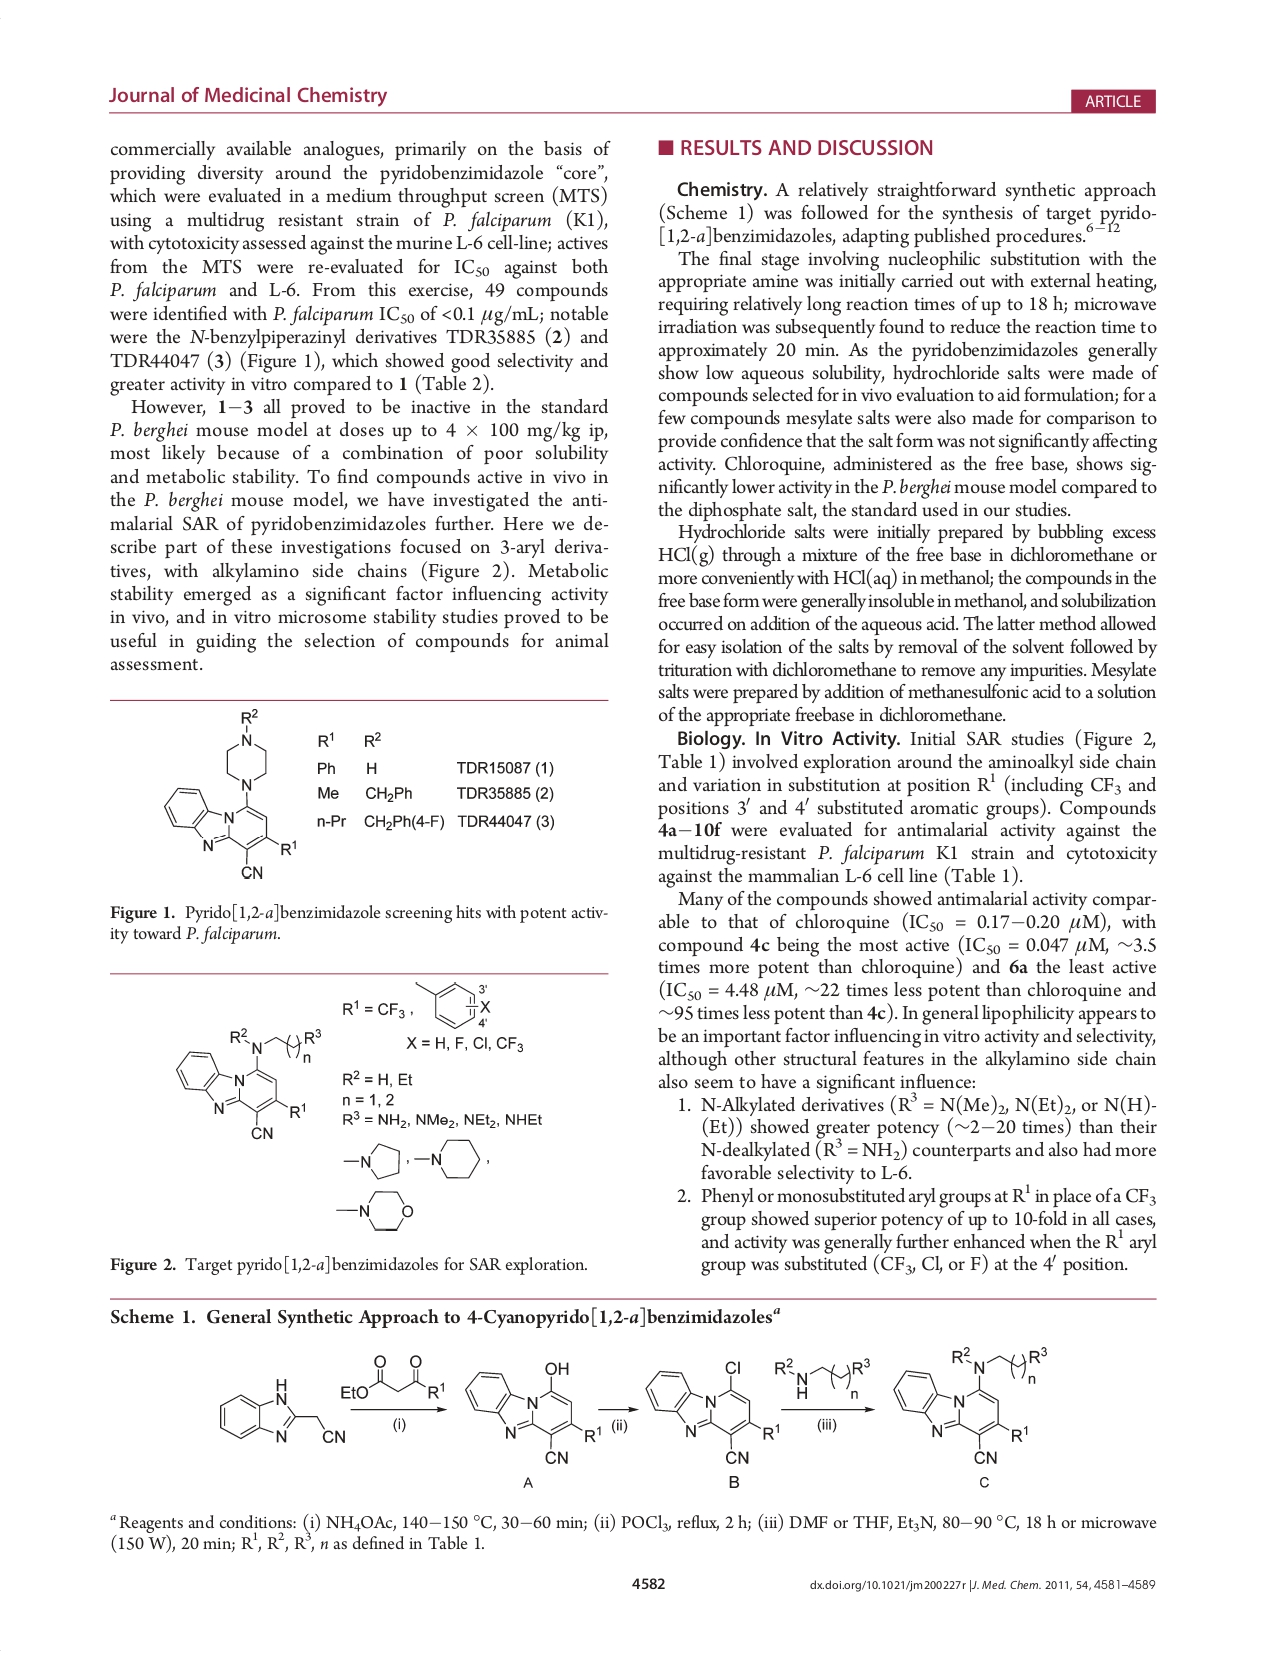exist_molecular: (160, 706, 301, 880), (884, 1342, 1047, 1466), (173, 1025, 324, 1142), (640, 1356, 781, 1470), (461, 1356, 605, 1466), (211, 1375, 348, 1450), (336, 1348, 445, 1403), (769, 1348, 872, 1402), (414, 977, 495, 1031), (332, 1188, 415, 1234), (414, 1134, 483, 1184), (340, 1140, 404, 1184)
